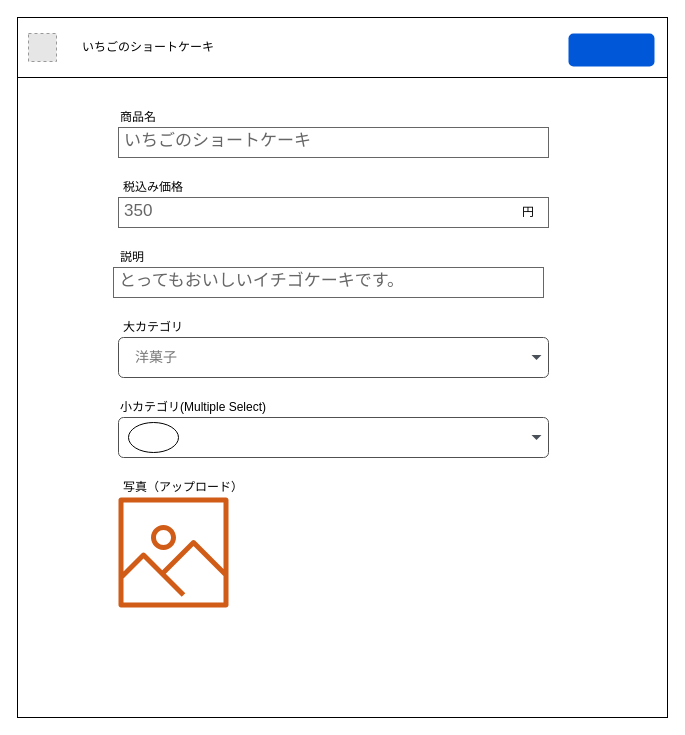
Image size: 685x735. Some labels were removed from this diagram. Grey dashed boxes stand in for pictures. The centre of each missing label's shape, as x and y in pixels:
ケーキ: the point at 153,437
保存: the point at 611,49
